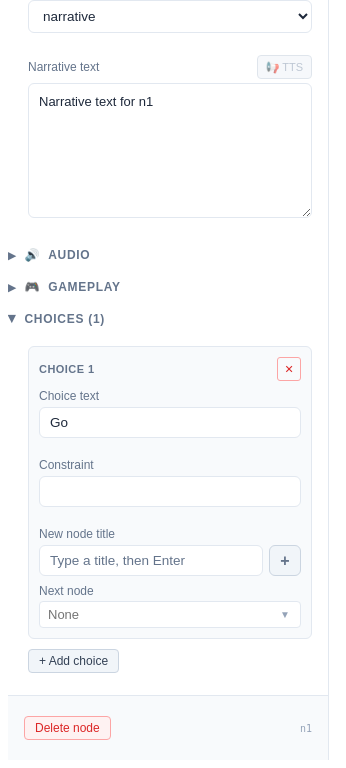
Test: CompanionPanel — NodeComboField (next node) › opens listbox on focus and shows options
The image size is (346, 768).
(page scrolled)
Step 1. Focus the dropdown labelled "Next node" → (170, 614), box top-left (39, 601), bottom-right (301, 628)
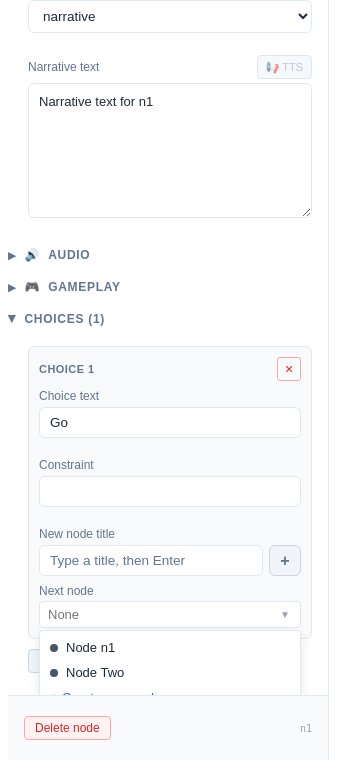
Result: the option "Node Two" is shown at top-left (50, 665), bottom-right (124, 680)
